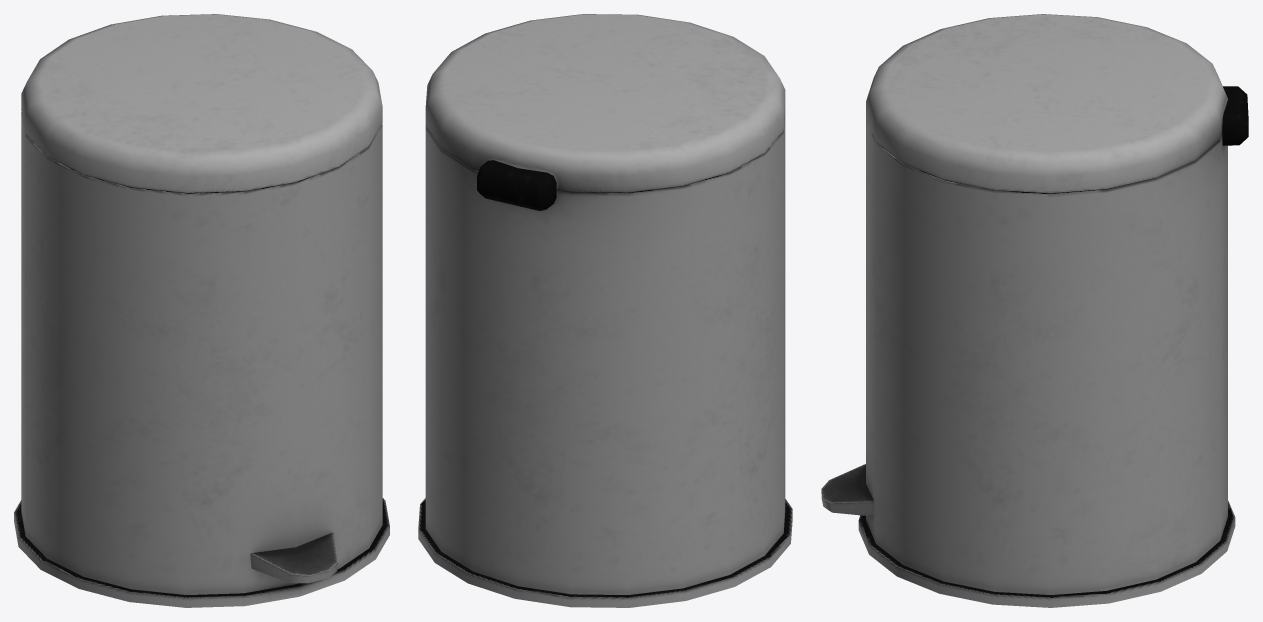
The model's file is Trashbin.fbx.
3 renders of one model, left to right at view 1: azimuth 30°, elevation 25°; view 2: azimuth 150°, elevation 25°; view 3: azimuth 270°, elevation 25°, orthographic.
Parts seen in each view (by area): view 1: Trashbin, Cover; view 2: Trashbin, Cover; view 3: Trashbin, Cover.
Boxes of the visible parts, bbox=[...] form: Trashbin: bbox=[14, 112, 389, 607]; Cover: bbox=[21, 14, 382, 192]; Trashbin: bbox=[418, 111, 792, 607]; Cover: bbox=[425, 14, 785, 192]; Trashbin: bbox=[821, 86, 1248, 607]; Cover: bbox=[866, 14, 1227, 193].
Size of the model in its own units: 22.91 by 29.88 by 26.
